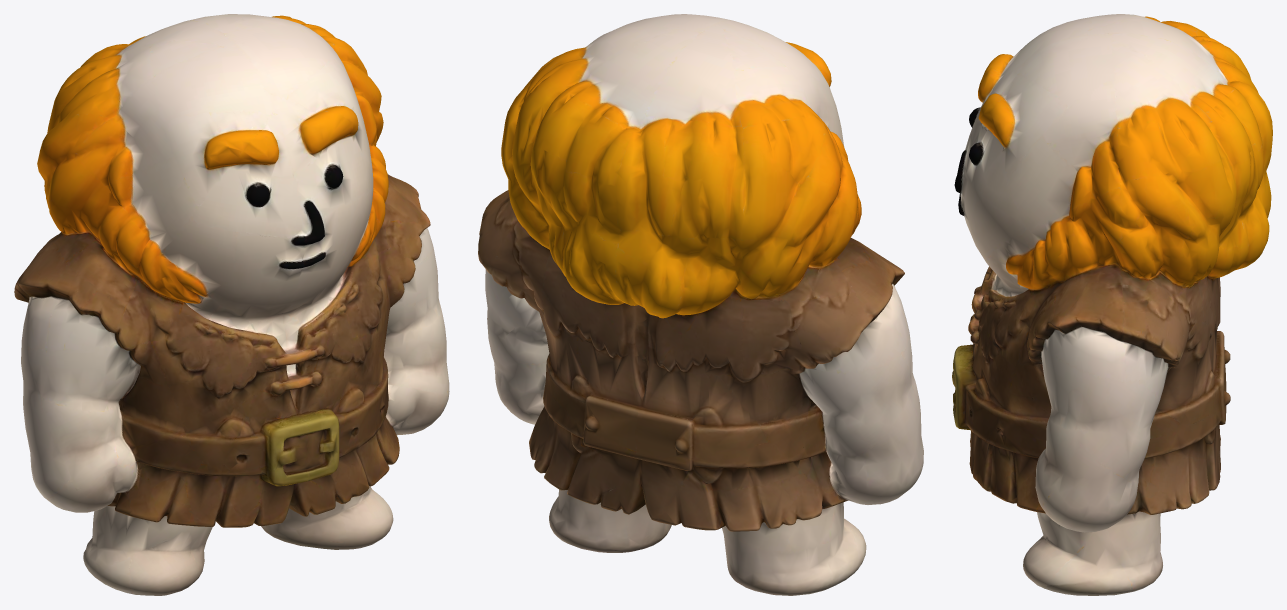
The model's file is Gigante.glb.
3 views of the same model, side by side, from view 1: azimuth 30°, elevation 25°; view 2: azimuth 150°, elevation 25°; view 3: azimuth 270°, elevation 25° (orthographic). The views are drawn at different scales.
Bounding box in the file's own units: 1.59 × 1.9 × 1.11.
1 material, 1 textured.
